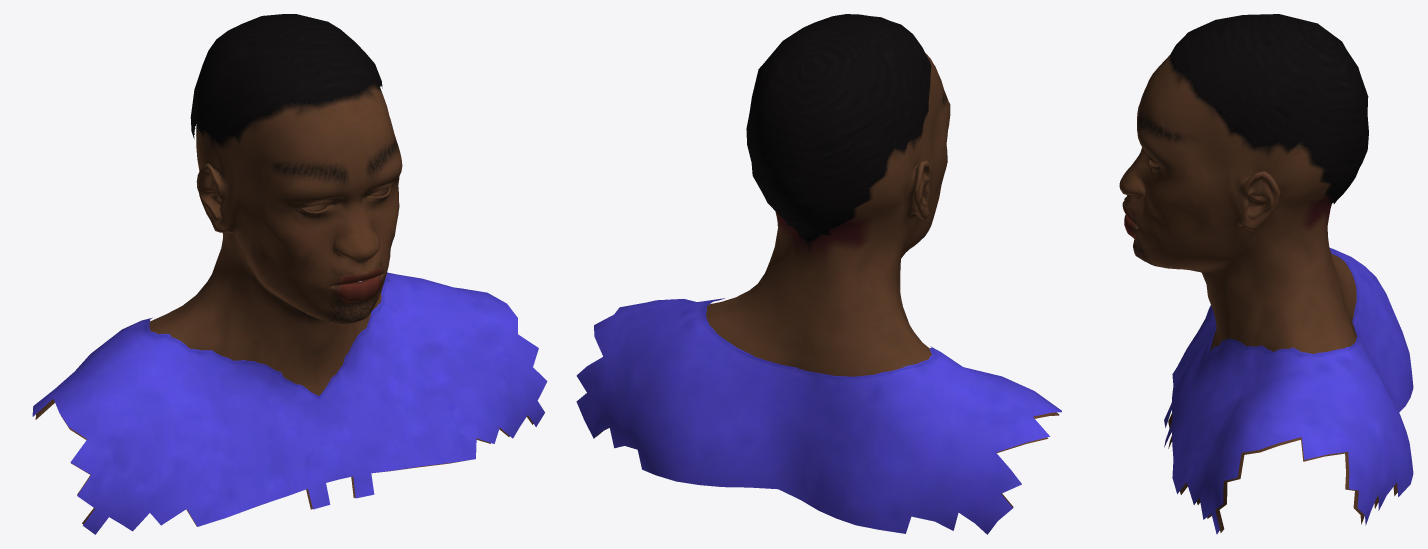
File: samuel.glb
The picture shows the model from 3 angles, left to right: view 1: azimuth 30°, elevation 25°; view 2: azimuth 150°, elevation 25°; view 3: azimuth 270°, elevation 25°; orthographic projection. The views are drawn at different scales.
Visible parts, largest first — view 1: shirt, head, hair; view 2: shirt, head, hair; view 3: head, shirt, hair.
Boxes of the visible parts, left/top/right/bottom form: shirt: left=32, top=272, right=547, bottom=534; head: left=35, top=82, right=533, bottom=526; hair: left=190, top=14, right=382, bottom=143; shirt: left=576, top=298, right=1061, bottom=534; head: left=596, top=53, right=1059, bottom=507; hair: left=746, top=14, right=931, bottom=242; head: left=1119, top=54, right=1397, bottom=532; shirt: left=1164, top=248, right=1413, bottom=534; hair: left=1170, top=14, right=1368, bottom=204.
Size of the model in its own units: 4.64 by 4.1 by 2.65.
5 materials, 3 textured.
